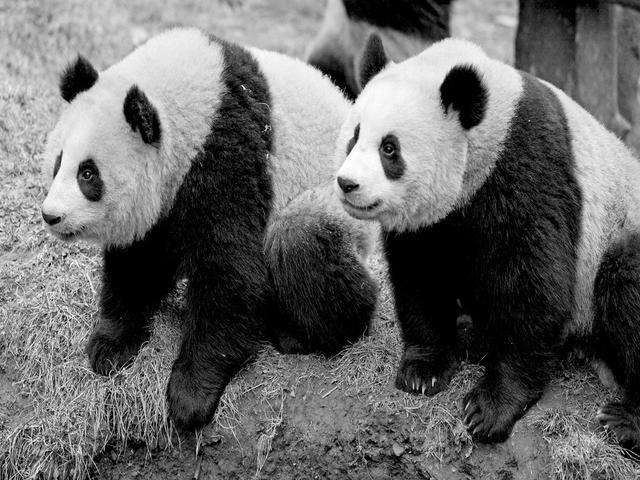panda: (25, 26, 367, 458), (326, 5, 640, 438)
